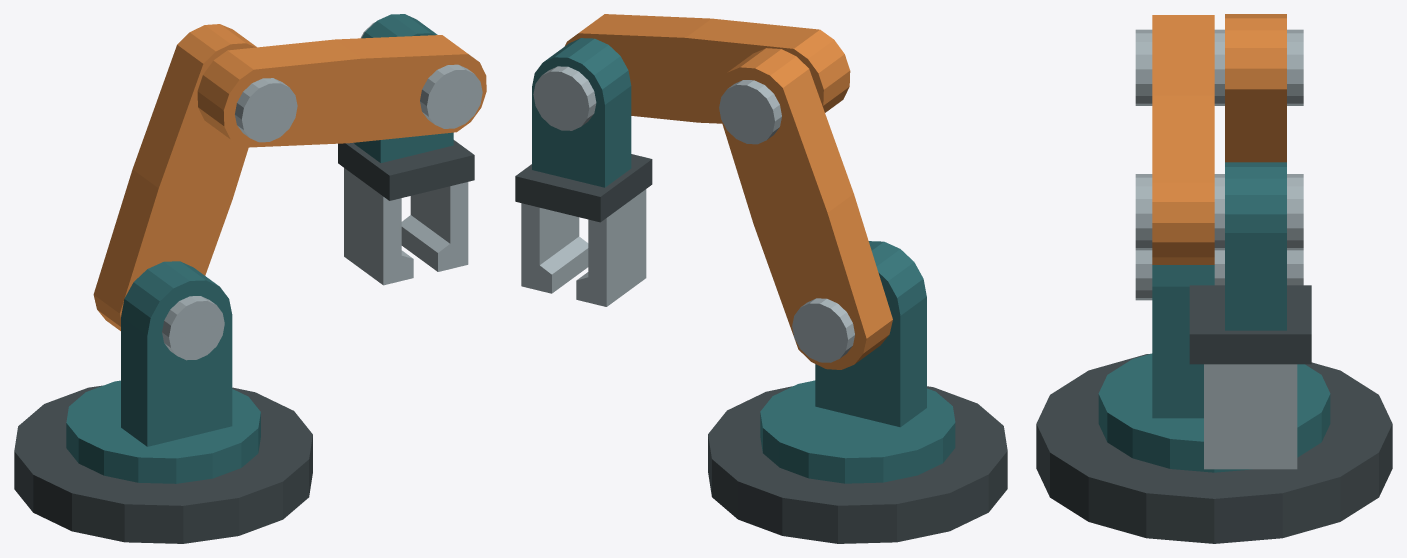
3 views of the same model, side by side, from view 1: azimuth 30°, elevation 25°; view 2: azimuth 150°, elevation 25°; view 3: azimuth 270°, elevation 25° (orthographic). The views are drawn at different scales.
Visible parts, largest first — view 1: RoundGroundBase, ContinuousUpperArm, ContinuousForearm, BoredShoulderPedestal, RoundTurntableSeat, LeftOpenFinger, ThickGripperPalm, RightOpenFinger, WristCollaredPin, ElbowCollaredPin, ShoulderCollaredPin, BoredWristCarrier; view 2: ContinuousUpperArm, RoundGroundBase, ContinuousForearm, RoundTurntableSeat, BoredShoulderPedestal, BoredWristCarrier, LeftOpenFinger, ThickGripperPalm, RightOpenFinger, WristCollaredPin, ShoulderCollaredPin, ElbowCollaredPin; view 3: RoundGroundBase, ContinuousForearm, BoredWristCarrier, RoundTurntableSeat, RightOpenFinger, ContinuousUpperArm, BoredShoulderPedestal, ThickGripperPalm, ElbowCollaredPin, WristCollaredPin, ShoulderCollaredPin.
Boxes of the visible parts, x1,y1,x2,y2 form: RoundGroundBase: [14, 385, 312, 543]; ContinuousUpperArm: [93, 24, 256, 330]; ContinuousForearm: [197, 35, 486, 147]; BoredShoulderPedestal: [121, 261, 232, 446]; RoundTurntableSeat: [66, 380, 260, 483]; LeftOpenFinger: [344, 168, 413, 285]; ThickGripperPalm: [338, 140, 474, 200]; RightOpenFinger: [401, 182, 468, 271]; WristCollaredPin: [361, 22, 482, 128]; ElbowCollaredPin: [235, 78, 297, 142]; ShoulderCollaredPin: [162, 296, 224, 360]; BoredWristCarrier: [354, 14, 453, 162]; ContinuousUpperArm: [714, 48, 892, 369]; RoundGroundBase: [708, 386, 1007, 543]; ContinuousForearm: [565, 14, 850, 123]; RoundTurntableSeat: [760, 380, 955, 483]; BoredShoulderPedestal: [815, 241, 926, 427]; BoredWristCarrier: [532, 38, 631, 187]; LeftOpenFinger: [576, 189, 646, 306]; ThickGripperPalm: [515, 154, 652, 222]; RightOpenFinger: [521, 203, 588, 293]; WristCollaredPin: [533, 66, 596, 130]; ShoulderCollaredPin: [792, 298, 854, 362]; ElbowCollaredPin: [719, 80, 781, 144]; RoundGroundBase: [1036, 353, 1392, 543]; ContinuousForearm: [1152, 15, 1214, 264]; BoredWristCarrier: [1225, 162, 1286, 330]; RoundTurntableSeat: [1098, 353, 1330, 472]; RightOpenFinger: [1204, 364, 1297, 469]; ContinuousUpperArm: [1225, 14, 1286, 162]; BoredShoulderPedestal: [1152, 265, 1214, 418]; ThickGripperPalm: [1189, 285, 1311, 364]; ElbowCollaredPin: [1135, 29, 1303, 105]; WristCollaredPin: [1135, 174, 1303, 250]; ShoulderCollaredPin: [1135, 250, 1303, 300].
Size of the model in its own units: 1.42 by 1.31 by 0.86.
